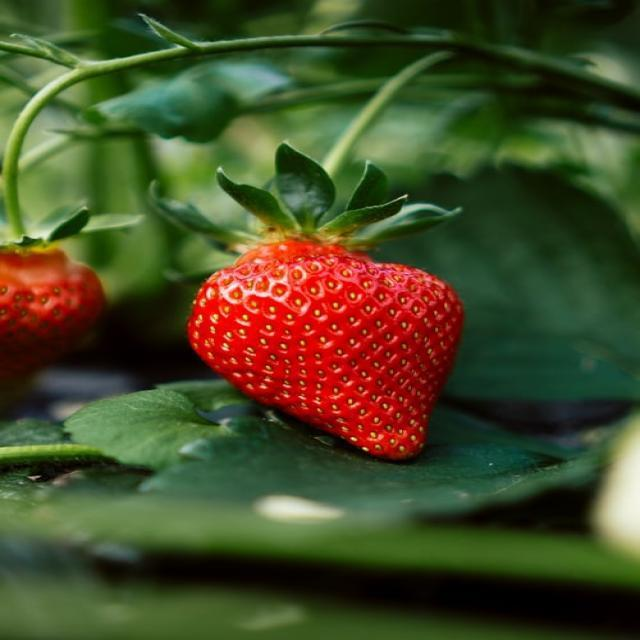strawberry: (188, 242, 466, 456)
